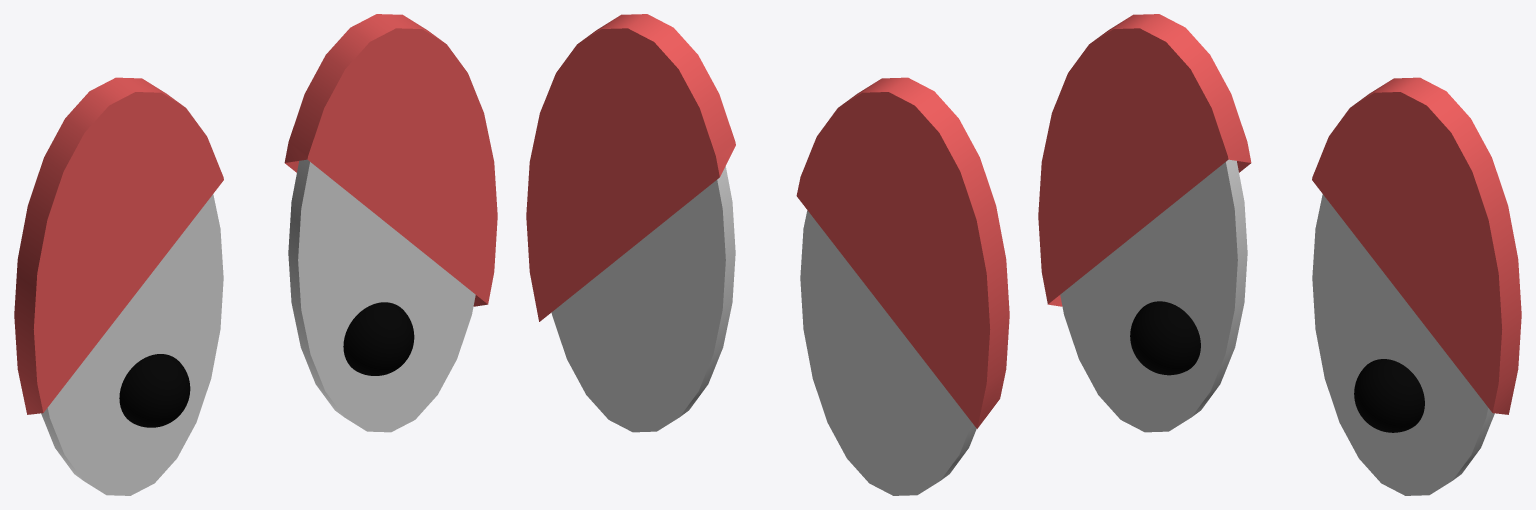
The model's file is eyes.glb.
3 views of the same model, side by side, from view 1: azimuth 30°, elevation 25°; view 2: azimuth 150°, elevation 25°; view 3: azimuth 330°, elevation 25° (orthographic).
Parts seen in each view (by area): view 1: Eyelid, Eyelid1, Eye1, Eye, Sphere, Sphere1; view 2: Eyelid, Eyelid1, Eye1, Eye; view 3: Eyelid1, Eyelid, Eye, Eye1, Sphere, Sphere1.
Part boxes in pixels (<box>): Eyelid: <box>14,77,223,414</box>; Eyelid1: <box>284,14,497,306</box>; Eye1: <box>288,159,475,432</box>; Eye: <box>41,194,223,495</box>; Sphere: <box>119,354,190,427</box>; Sphere1: <box>343,302,414,375</box>; Eyelid: <box>796,77,1009,428</box>; Eyelid1: <box>526,14,735,321</box>; Eye1: <box>551,166,735,432</box>; Eye: <box>800,210,976,495</box>; Eyelid1: <box>1312,77,1521,414</box>; Eyelid: <box>1038,14,1251,306</box>; Eye: <box>1060,159,1247,432</box>; Eye1: <box>1312,194,1494,495</box>; Sphere: <box>1130,301,1200,375</box>; Sphere1: <box>1354,359,1424,432</box>.
Bounding box in the file's own units: 2.74 × 2.3 × 0.3308.
